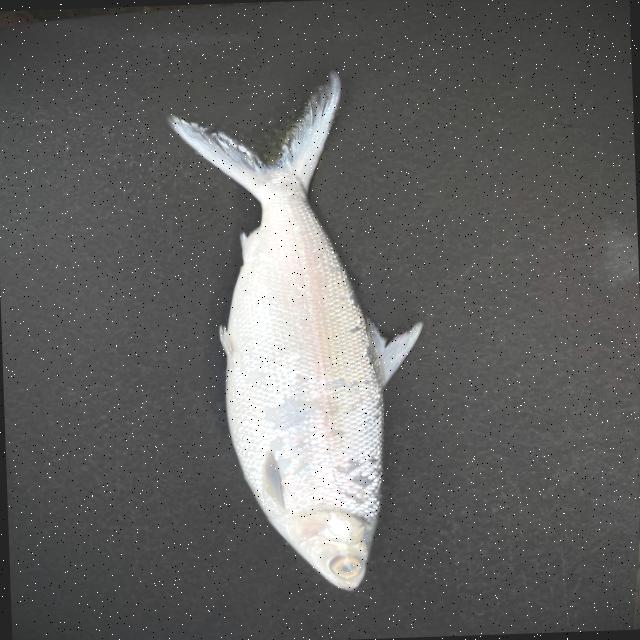805 g: (164, 67, 432, 596)
